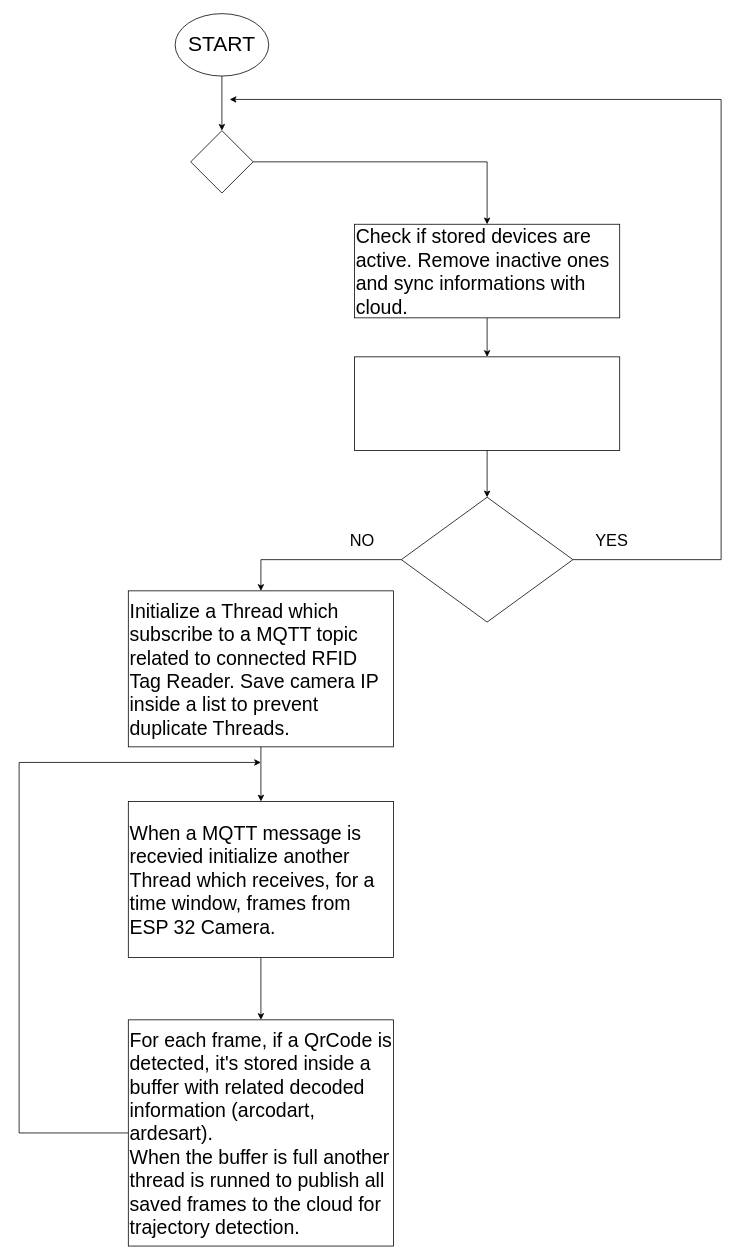
The diagram is 741 pixels wide and 1260 high, and some of its shapes have lost their labels. The shapes that lost their labels are listed below. From the top down, each one's box as (x1, y1, x2, y2) in pixels, then its label:
(190, 130, 253, 193): True
(354, 356, 620, 450): Get a list of Camera IP addresses and related RFID Tag reader.
(401, 496, 573, 622): Thread runned for current IP
